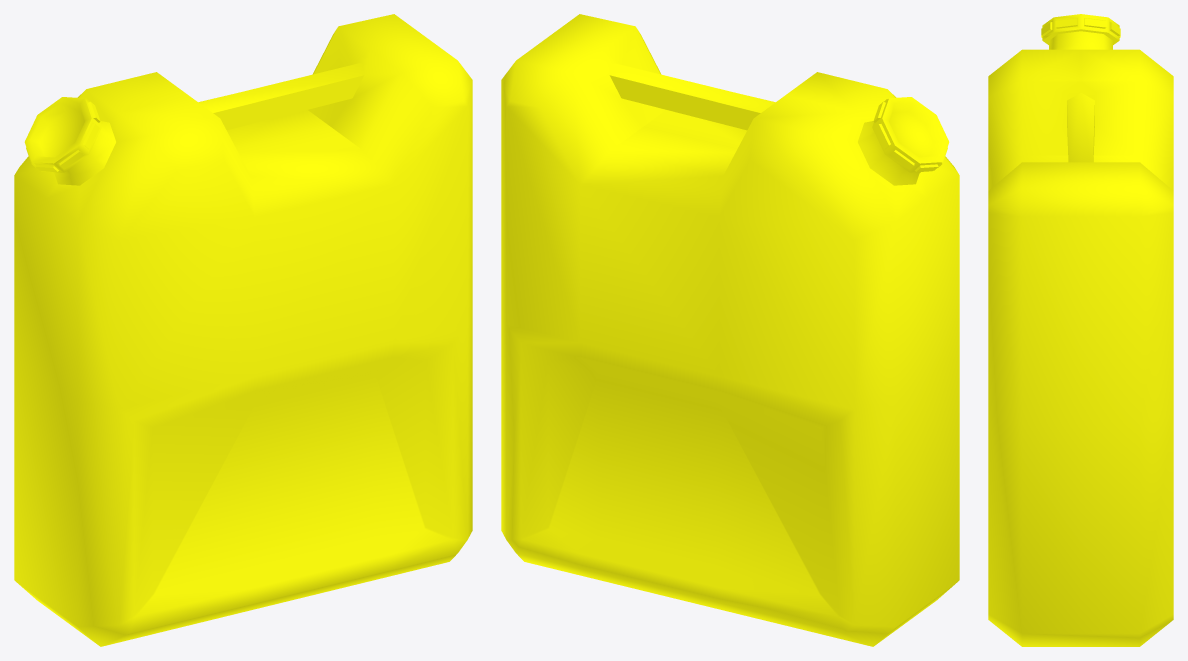
Rendered from SM_CanisterPlastic.glb.
The picture shows the model from 3 angles, left to right: view 1: azimuth 30°, elevation 25°; view 2: azimuth 150°, elevation 25°; view 3: azimuth 270°, elevation 25°; orthographic projection. The views are drawn at different scales.
Visible parts, largest first — view 1: SM_CanisterPlastic_LOD0; view 2: SM_CanisterPlastic_LOD0; view 3: SM_CanisterPlastic_LOD0.
Boxes of the visible parts, bbox=[...] form: SM_CanisterPlastic_LOD0: bbox=[14, 14, 472, 646]; SM_CanisterPlastic_LOD0: bbox=[501, 14, 959, 646]; SM_CanisterPlastic_LOD0: bbox=[988, 14, 1173, 646].
Bounding box in the file's own units: 0.4226 × 0.5144 × 0.1791.
Materials: 1 (1 with a texture image).
